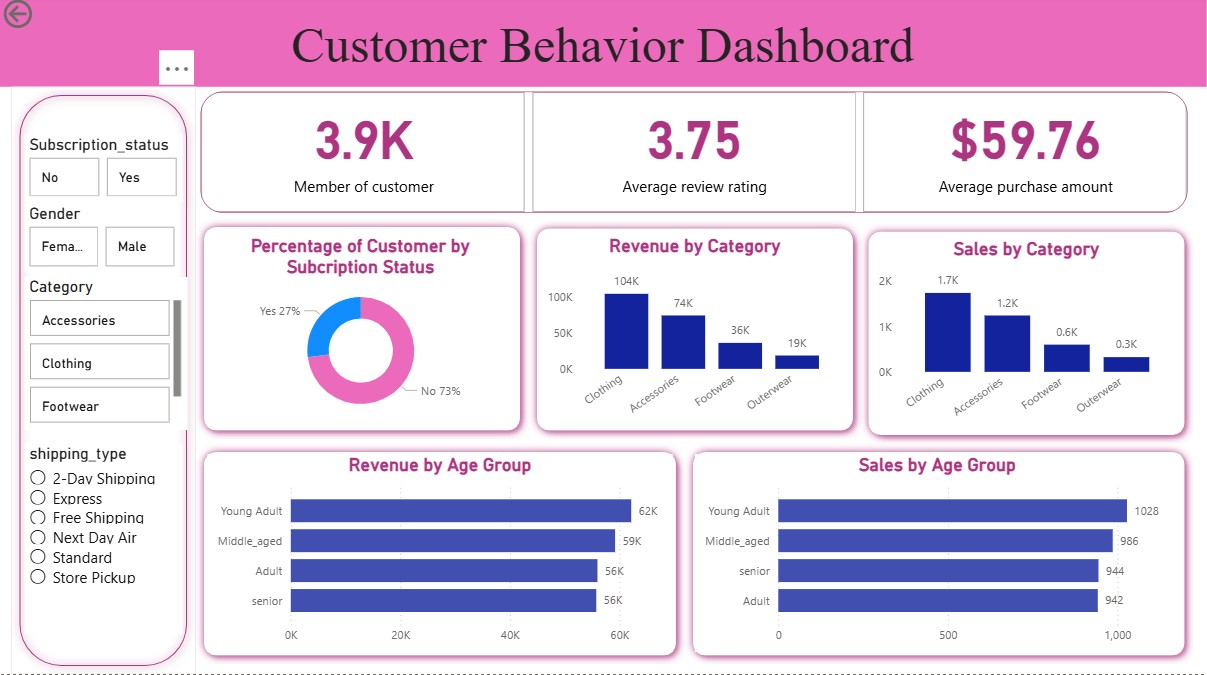

What the dashboard file says about the page in this screenshot:
{"tool":"powerbi","page":{"name":"Page 1","canvas":[1280,720],"ordinal":0},"visuals":[{"type":"cardVisual","fields":{"Data":["customer_behavior customer.Member of customer","customer_behavior customer.Average review rating","customer_behavior customer.Average purchase amount"]},"box":[208.4,97,1057.8,140],"z":0},{"type":"shape","box":[0,0,1266.2,96.4],"z":1000},{"type":"textbox","box":[0,0,1280.4,97],"z":2000},{"type":"shape","box":[208.4,237,353.1,233.8],"z":3000},{"type":"donutChart","title":"Percentage of Customer by Subcription Status","fields":{"Category":["customer_behavior customer.subscription_status"],"Y":["CountNonNull(customer_behavior customer.customer_id)"]},"box":[221.1,254.5,324.5,200.4],"z":4000},{"type":"actionButton","box":[0,0,100,40],"z":5000},{"type":"shape","box":[560.7,238.6,353.1,232.2],"z":6000},{"type":"shape","box":[913,241.8,353.1,233.8],"z":7000},{"type":"clusteredColumnChart","title":"Revenue by Category","fields":{"Y":["Sum(customer_behavior customer.purchase_amount)"],"Category":["customer_behavior customer.category"]},"box":[575.8,254.5,324.5,203.6],"z":8000},{"type":"clusteredColumnChart","title":"Sales by Category","fields":{"Category":["customer_behavior customer.category"],"Y":["CountNonNull(customer_behavior customer.customer_id)"]},"box":[927.3,257.7,324.5,203.6],"z":9000},{"type":"shape","box":[0,97,208.4,623.5],"z":10000},{"type":"advancedSlicerVisual","fields":{"Values":["customer_behavior customer.subscription_status"]},"box":[27,147.9,167,71],"z":11000},{"type":"advancedSlicerVisual","title":"Gender","fields":{"Values":["customer_behavior customer.gender"]},"box":[27,221.1,165.4,71.6],"z":12000},{"type":"advancedSlicerVisual","title":"Category","fields":{"Values":["customer_behavior customer.category"]},"box":[27,299,171.8,162.2],"z":13000},{"type":"listSlicer","fields":{"Values":["customer_behavior customer.shipping_type"]},"box":[27,475.6,167,202],"z":14000},{"type":"shape","box":[208.4,475.6,518.5,233.8],"z":15000},{"type":"shape","box":[726.9,475.6,539.2,233.8],"z":16000},{"type":"clusteredBarChart","title":"Sales by Age Group","fields":{"Y":["CountNonNull(customer_behavior customer.purchase_amount)"],"Category":["customer_behavior customer.age_group"]},"box":[738,486.7,513.8,210],"z":17000},{"type":"clusteredBarChart","title":"Revenue by Age Group","fields":{"Y":["Sum(customer_behavior customer.purchase_amount)"],"Category":["customer_behavior customer.age_group"]},"box":[221.1,486.7,493.1,210],"z":18000}]}

Visuals, with their boxes on the page's 1280x720 design canvas (x1, y1, x2, y2). These are canvas units, not pixel positions in the 1207x675 screenshot, which may show the page scaled, cropped or inside an application window:
cardVisual - customer_behavior customer.Member of customer x customer_behavior customer.Average review rating: left=208, top=97, right=1266, bottom=237
shape: left=0, top=0, right=1266, bottom=96
textbox: left=0, top=0, right=1280, bottom=97
shape: left=208, top=237, right=562, bottom=471
"Percentage of Customer by Subcription Status" donutChart: left=221, top=254, right=546, bottom=455
actionButton: left=0, top=0, right=100, bottom=40
shape: left=561, top=239, right=914, bottom=471
shape: left=913, top=242, right=1266, bottom=476
"Revenue by Category" clusteredColumnChart: left=576, top=254, right=900, bottom=458
"Sales by Category" clusteredColumnChart: left=927, top=258, right=1252, bottom=461
shape: left=0, top=97, right=208, bottom=720
advancedSlicerVisual - customer_behavior customer.subscription_status: left=27, top=148, right=194, bottom=219
"Gender" advancedSlicerVisual: left=27, top=221, right=192, bottom=293
"Category" advancedSlicerVisual: left=27, top=299, right=199, bottom=461
listSlicer - customer_behavior customer.shipping_type: left=27, top=476, right=194, bottom=678
shape: left=208, top=476, right=727, bottom=709
shape: left=727, top=476, right=1266, bottom=709
"Sales by Age Group" clusteredBarChart: left=738, top=487, right=1252, bottom=697
"Revenue by Age Group" clusteredBarChart: left=221, top=487, right=714, bottom=697
